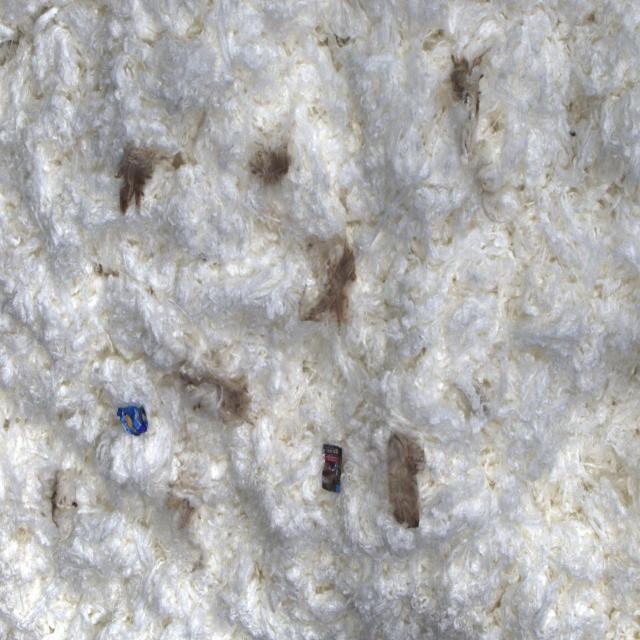dust: (90, 123, 175, 242), (421, 22, 492, 137), (296, 222, 363, 333), (173, 353, 253, 438), (379, 412, 431, 539), (239, 132, 298, 205), (311, 430, 350, 511), (165, 472, 200, 539), (115, 395, 154, 444), (90, 257, 128, 289), (50, 471, 62, 531)
